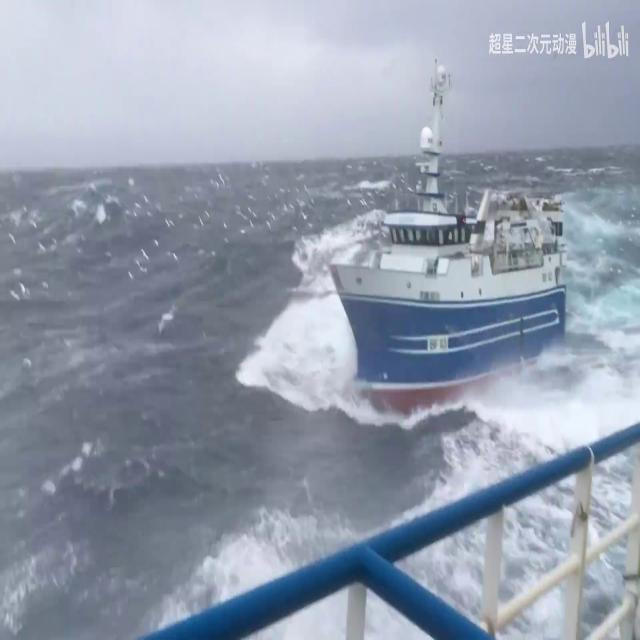houseboat: (334, 102, 580, 423)
